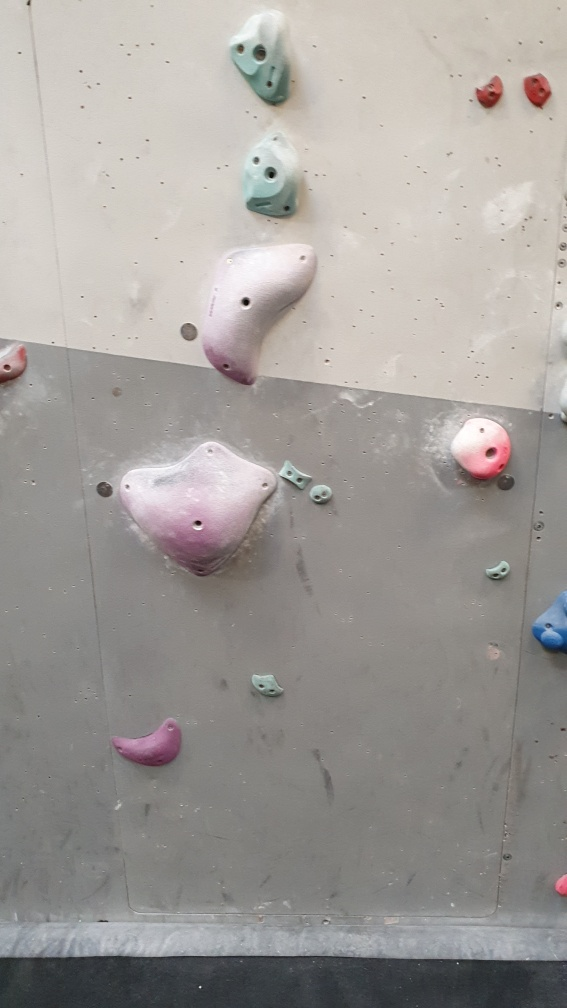Hand Start: (177, 317, 204, 348), (496, 473, 523, 499), (93, 477, 118, 501)
Jug: (222, 14, 303, 113), (234, 128, 303, 225)
Pinch: (275, 453, 314, 492), (481, 556, 513, 585)
Sloper: (528, 589, 567, 657)
